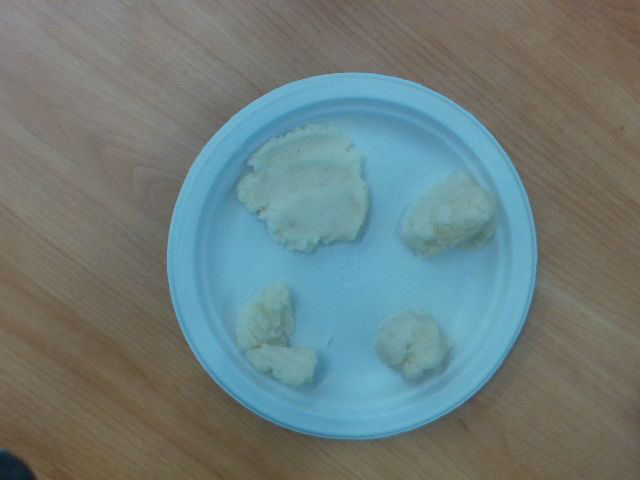mashed_potato: (241, 128, 366, 243), (239, 286, 316, 384), (405, 171, 495, 254), (377, 311, 450, 378)
